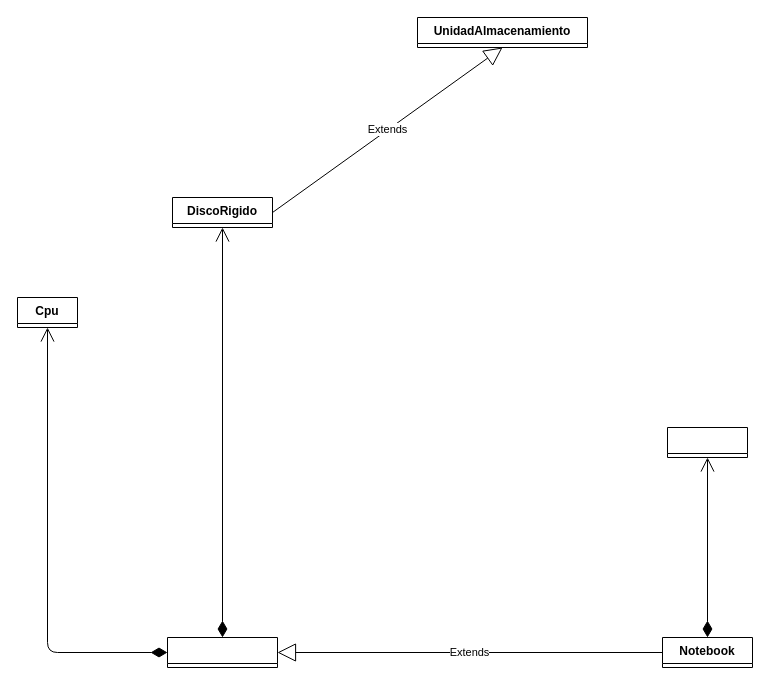
The diagram is 770 pixels wide and 688 high, and some of its shapes have lost their labels. Here are the shapes that lost their labels. From the top down, the box of each, then its label:
(666, 426, 748, 458): Bateria
(166, 636, 278, 668): Computadora
